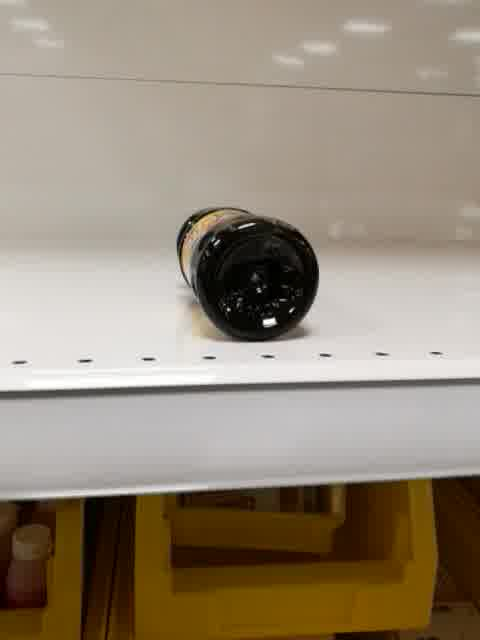cookingoil: (173, 201, 324, 346)
